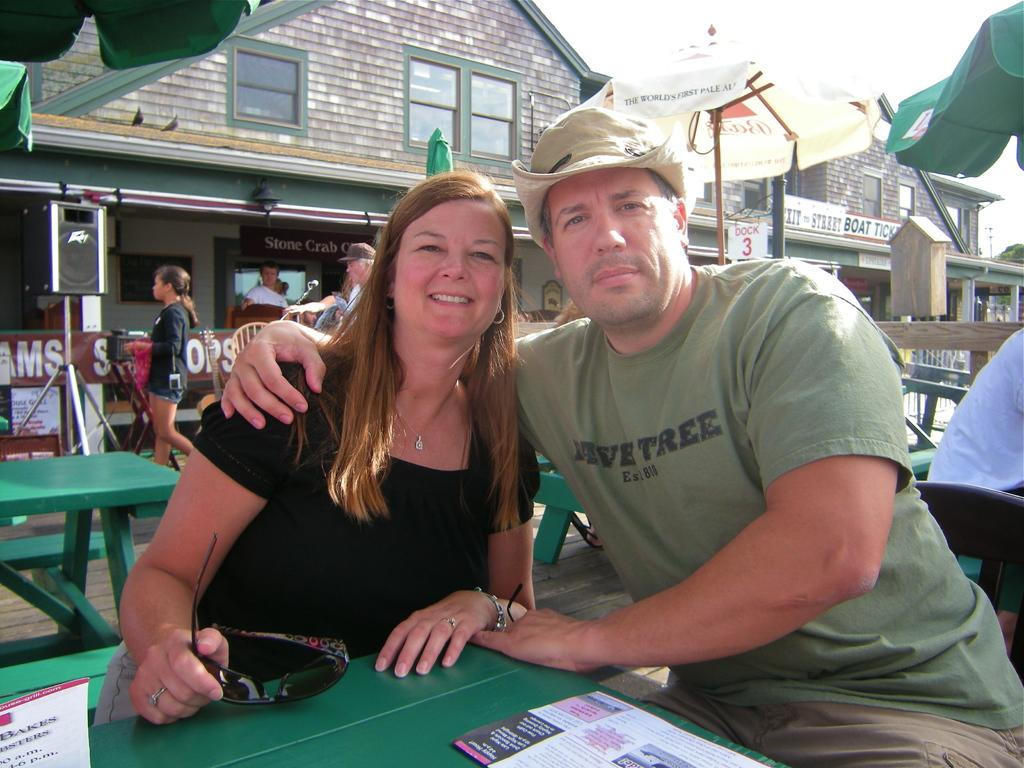Hat: (509, 107, 694, 250)
